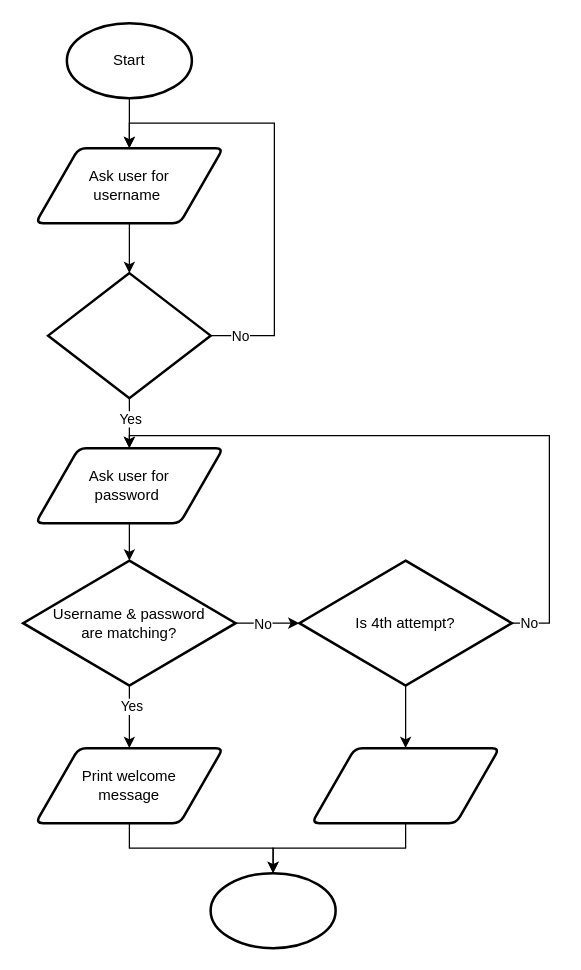
Some shapes in this 581 by 970 pixel diagram are drawn without their labels. The centre of each missing label's shape, as x and y in pixels:
"Does username exist?" goes at (128,335).
"End" goes at (272,910).
"Print login denied message" goes at (405,785).
